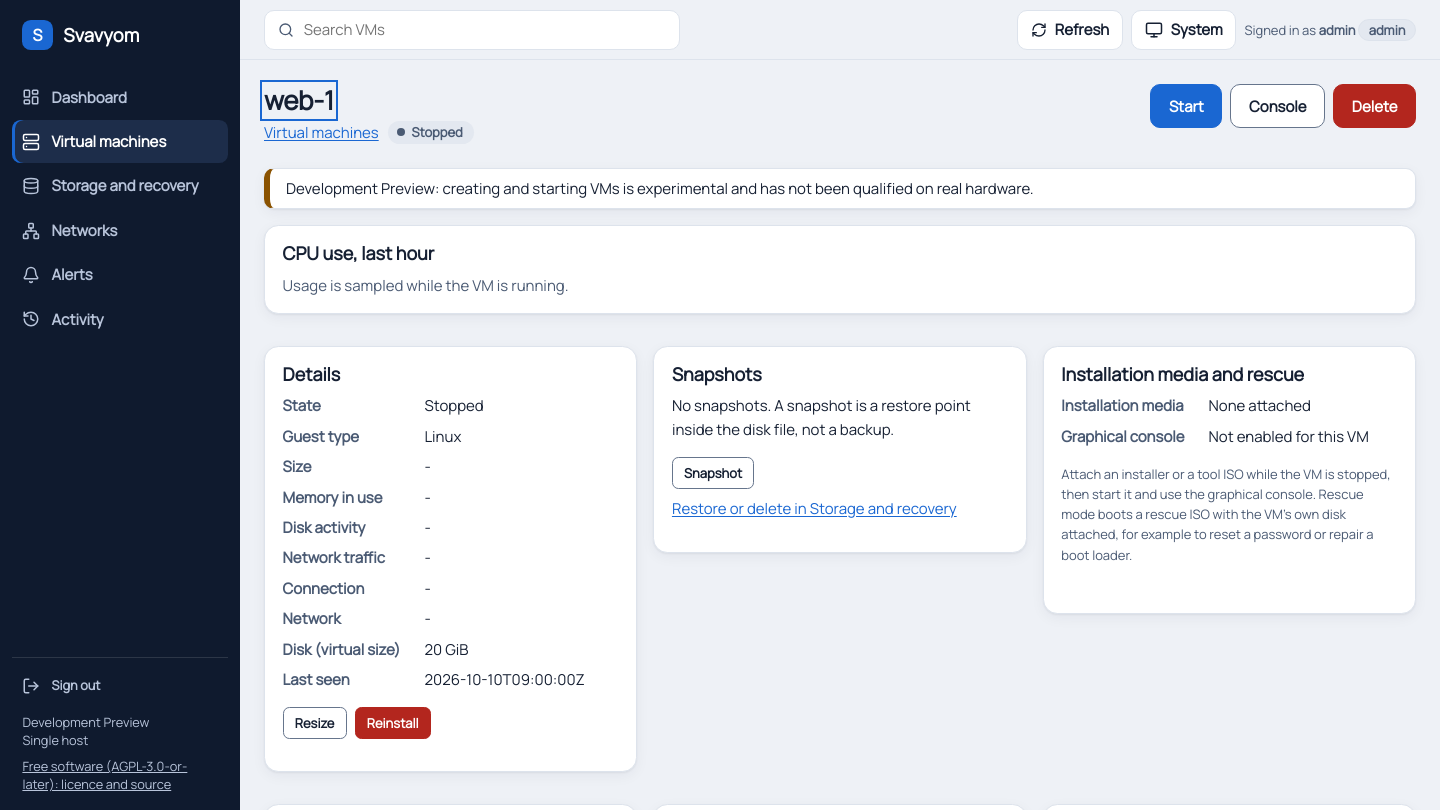
Test: storage actions on the VM page › grows the disk only to a larger whole number and sends the typed param
This screenshot has width=1440, height=810.
Click the button with aria-label "Resize web-1". click: [315, 724]
box: [283,708,347,740]
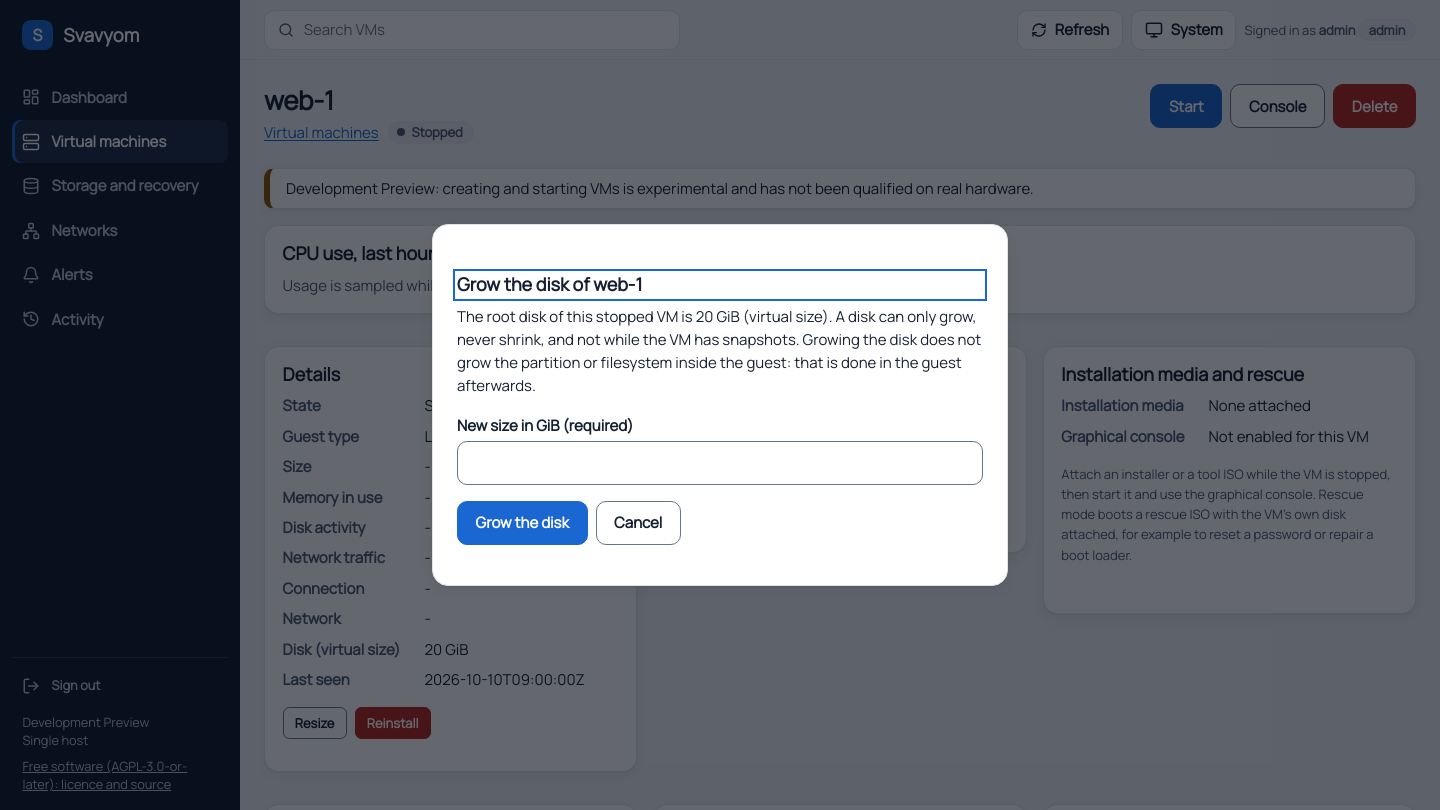
Result: the text "can only grow, never shrink" is shown at [457,306,981,396]
Type "10" into the field labelled "New size in GiB (required)". click: [720, 463]
box: [457,441,983,485]
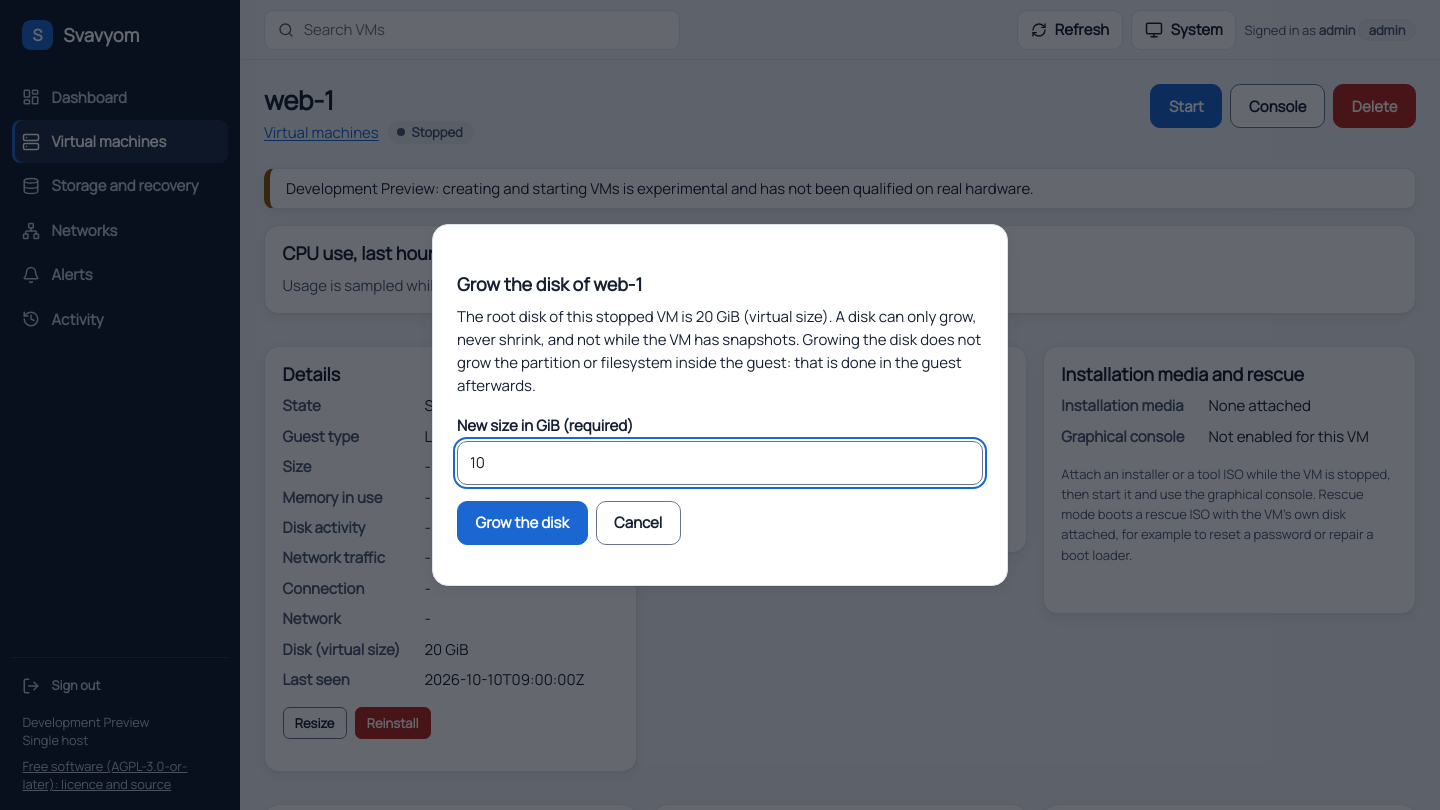
Click the button "Grow the disk". click: [522, 523]
box: [457,501,588,545]
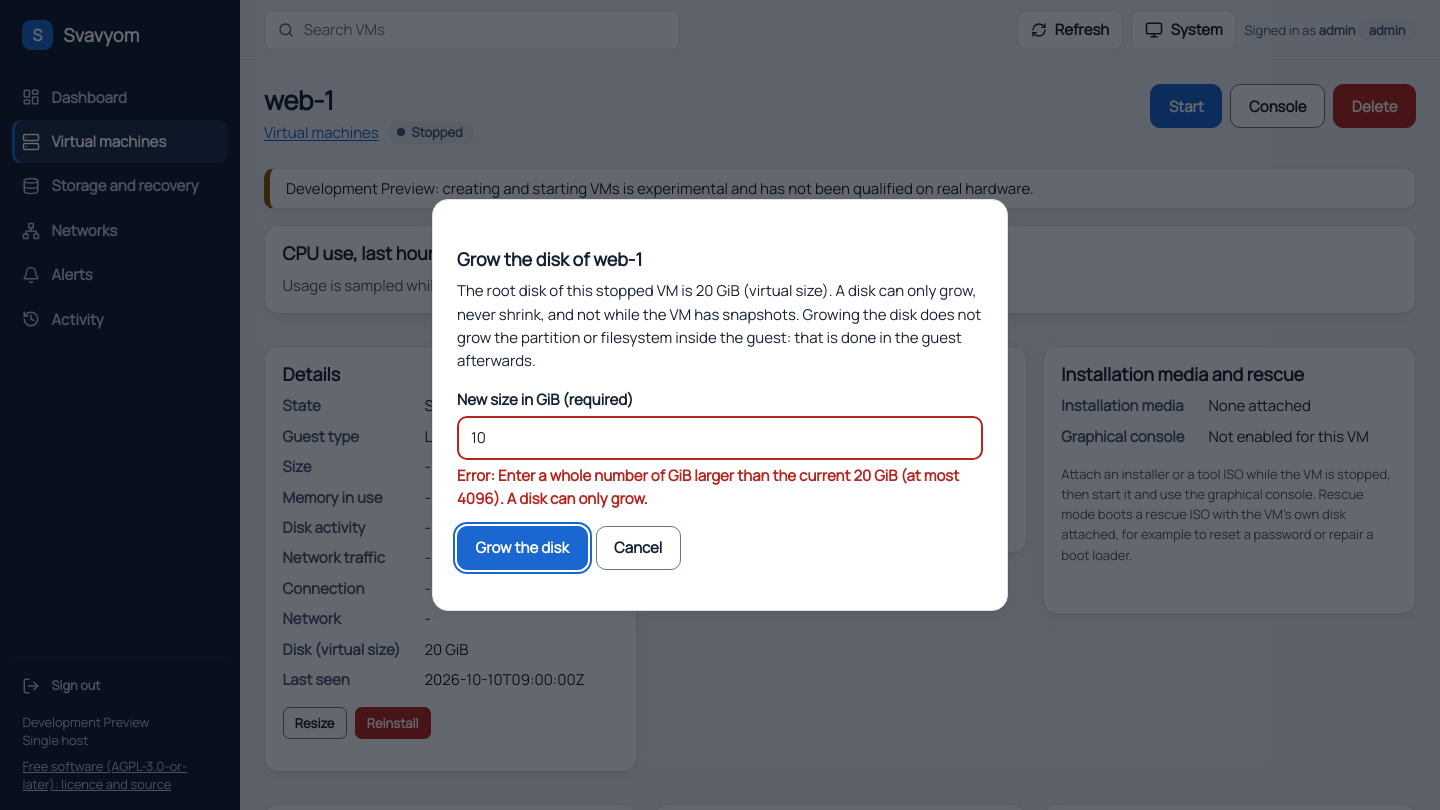
Result: the text "larger than the current 20 GiB" is shown at [457,465,959,509]
Replace the text in the field labelled "New size in GiB (required)" with "30". click: [720, 438]
box: [457,416,983,460]
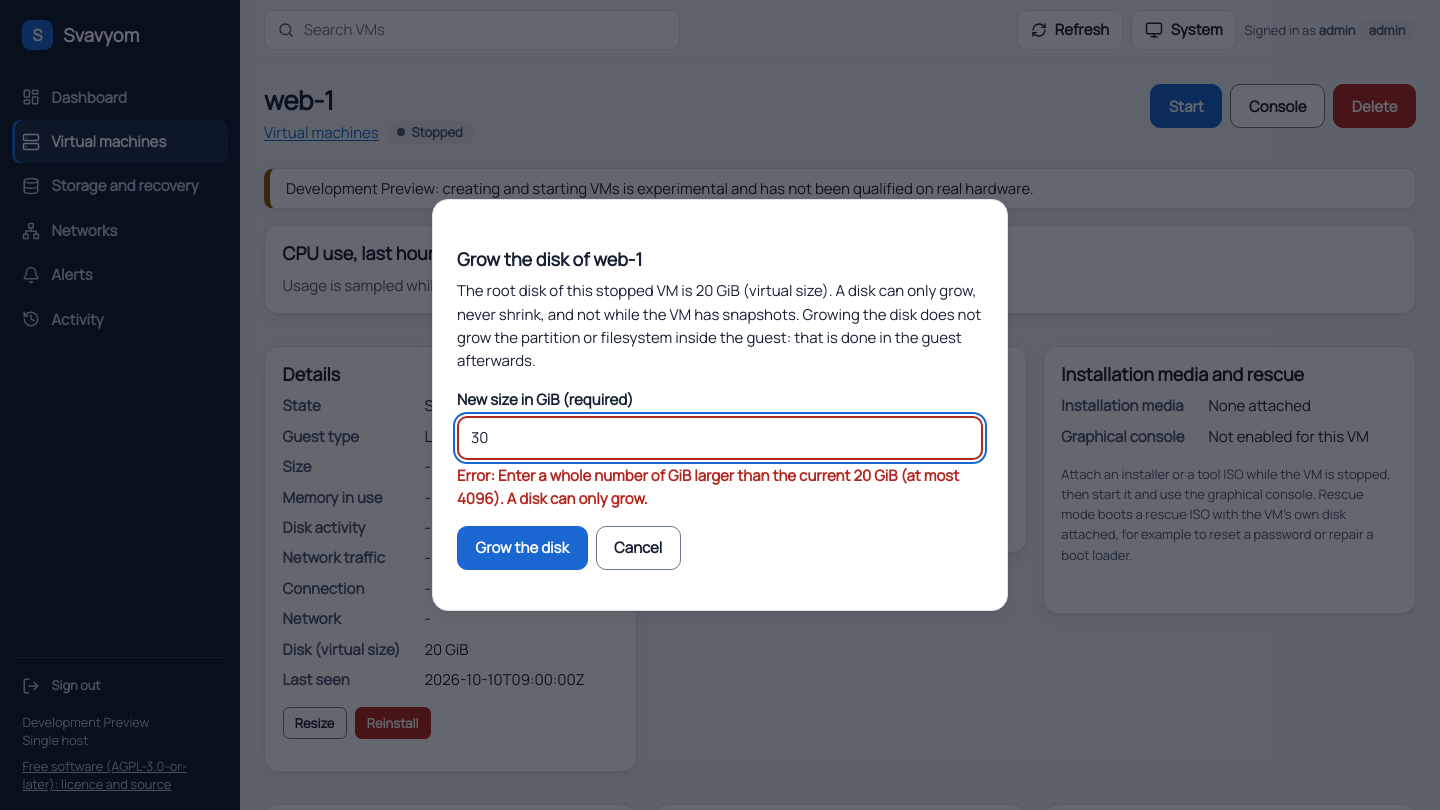
Click the button "Grow the disk". click: [522, 548]
box: [457,526,588,570]
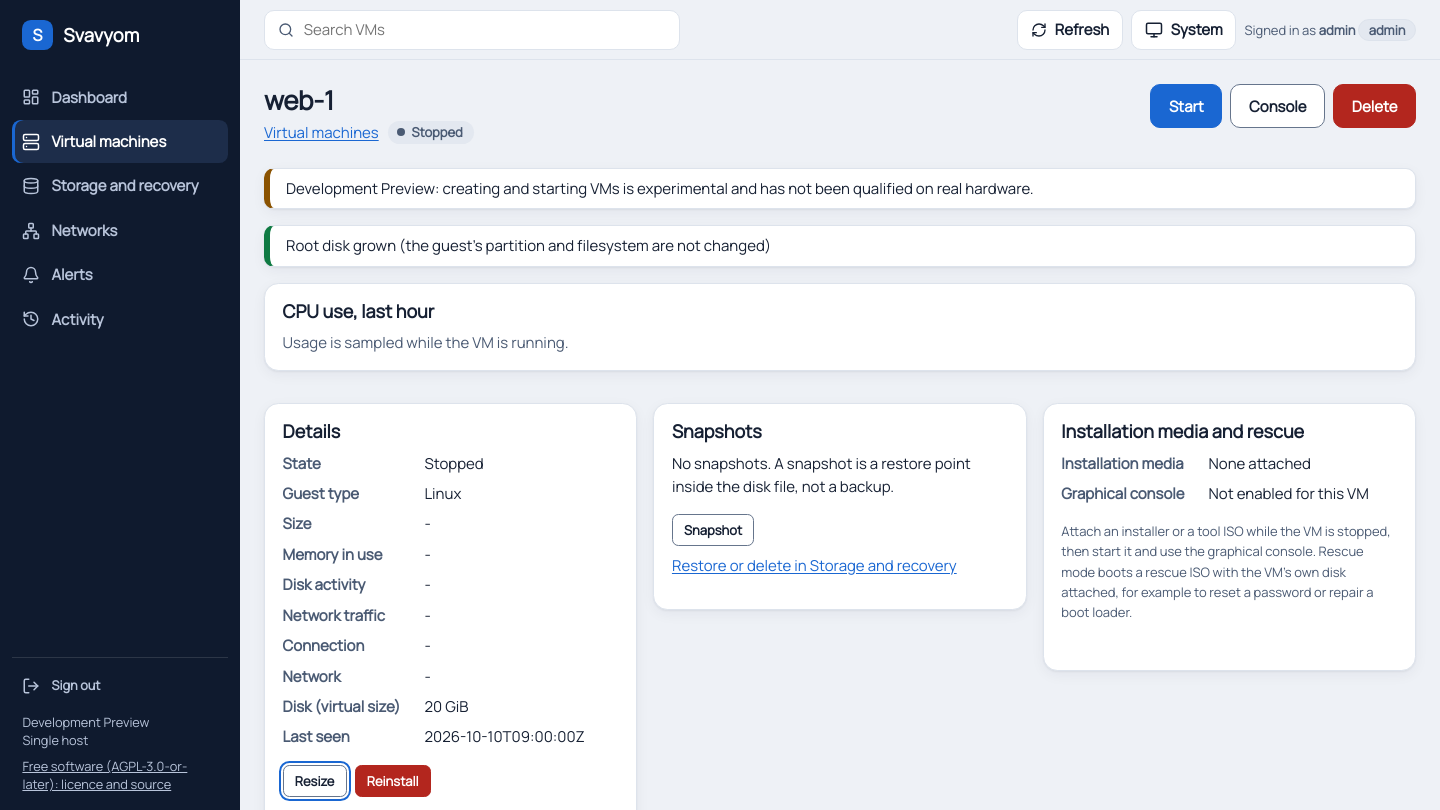
Result: the text "Root disk grown (the guest's partition and filesystem are not changed)" is shown at [264,225,1416,267]
